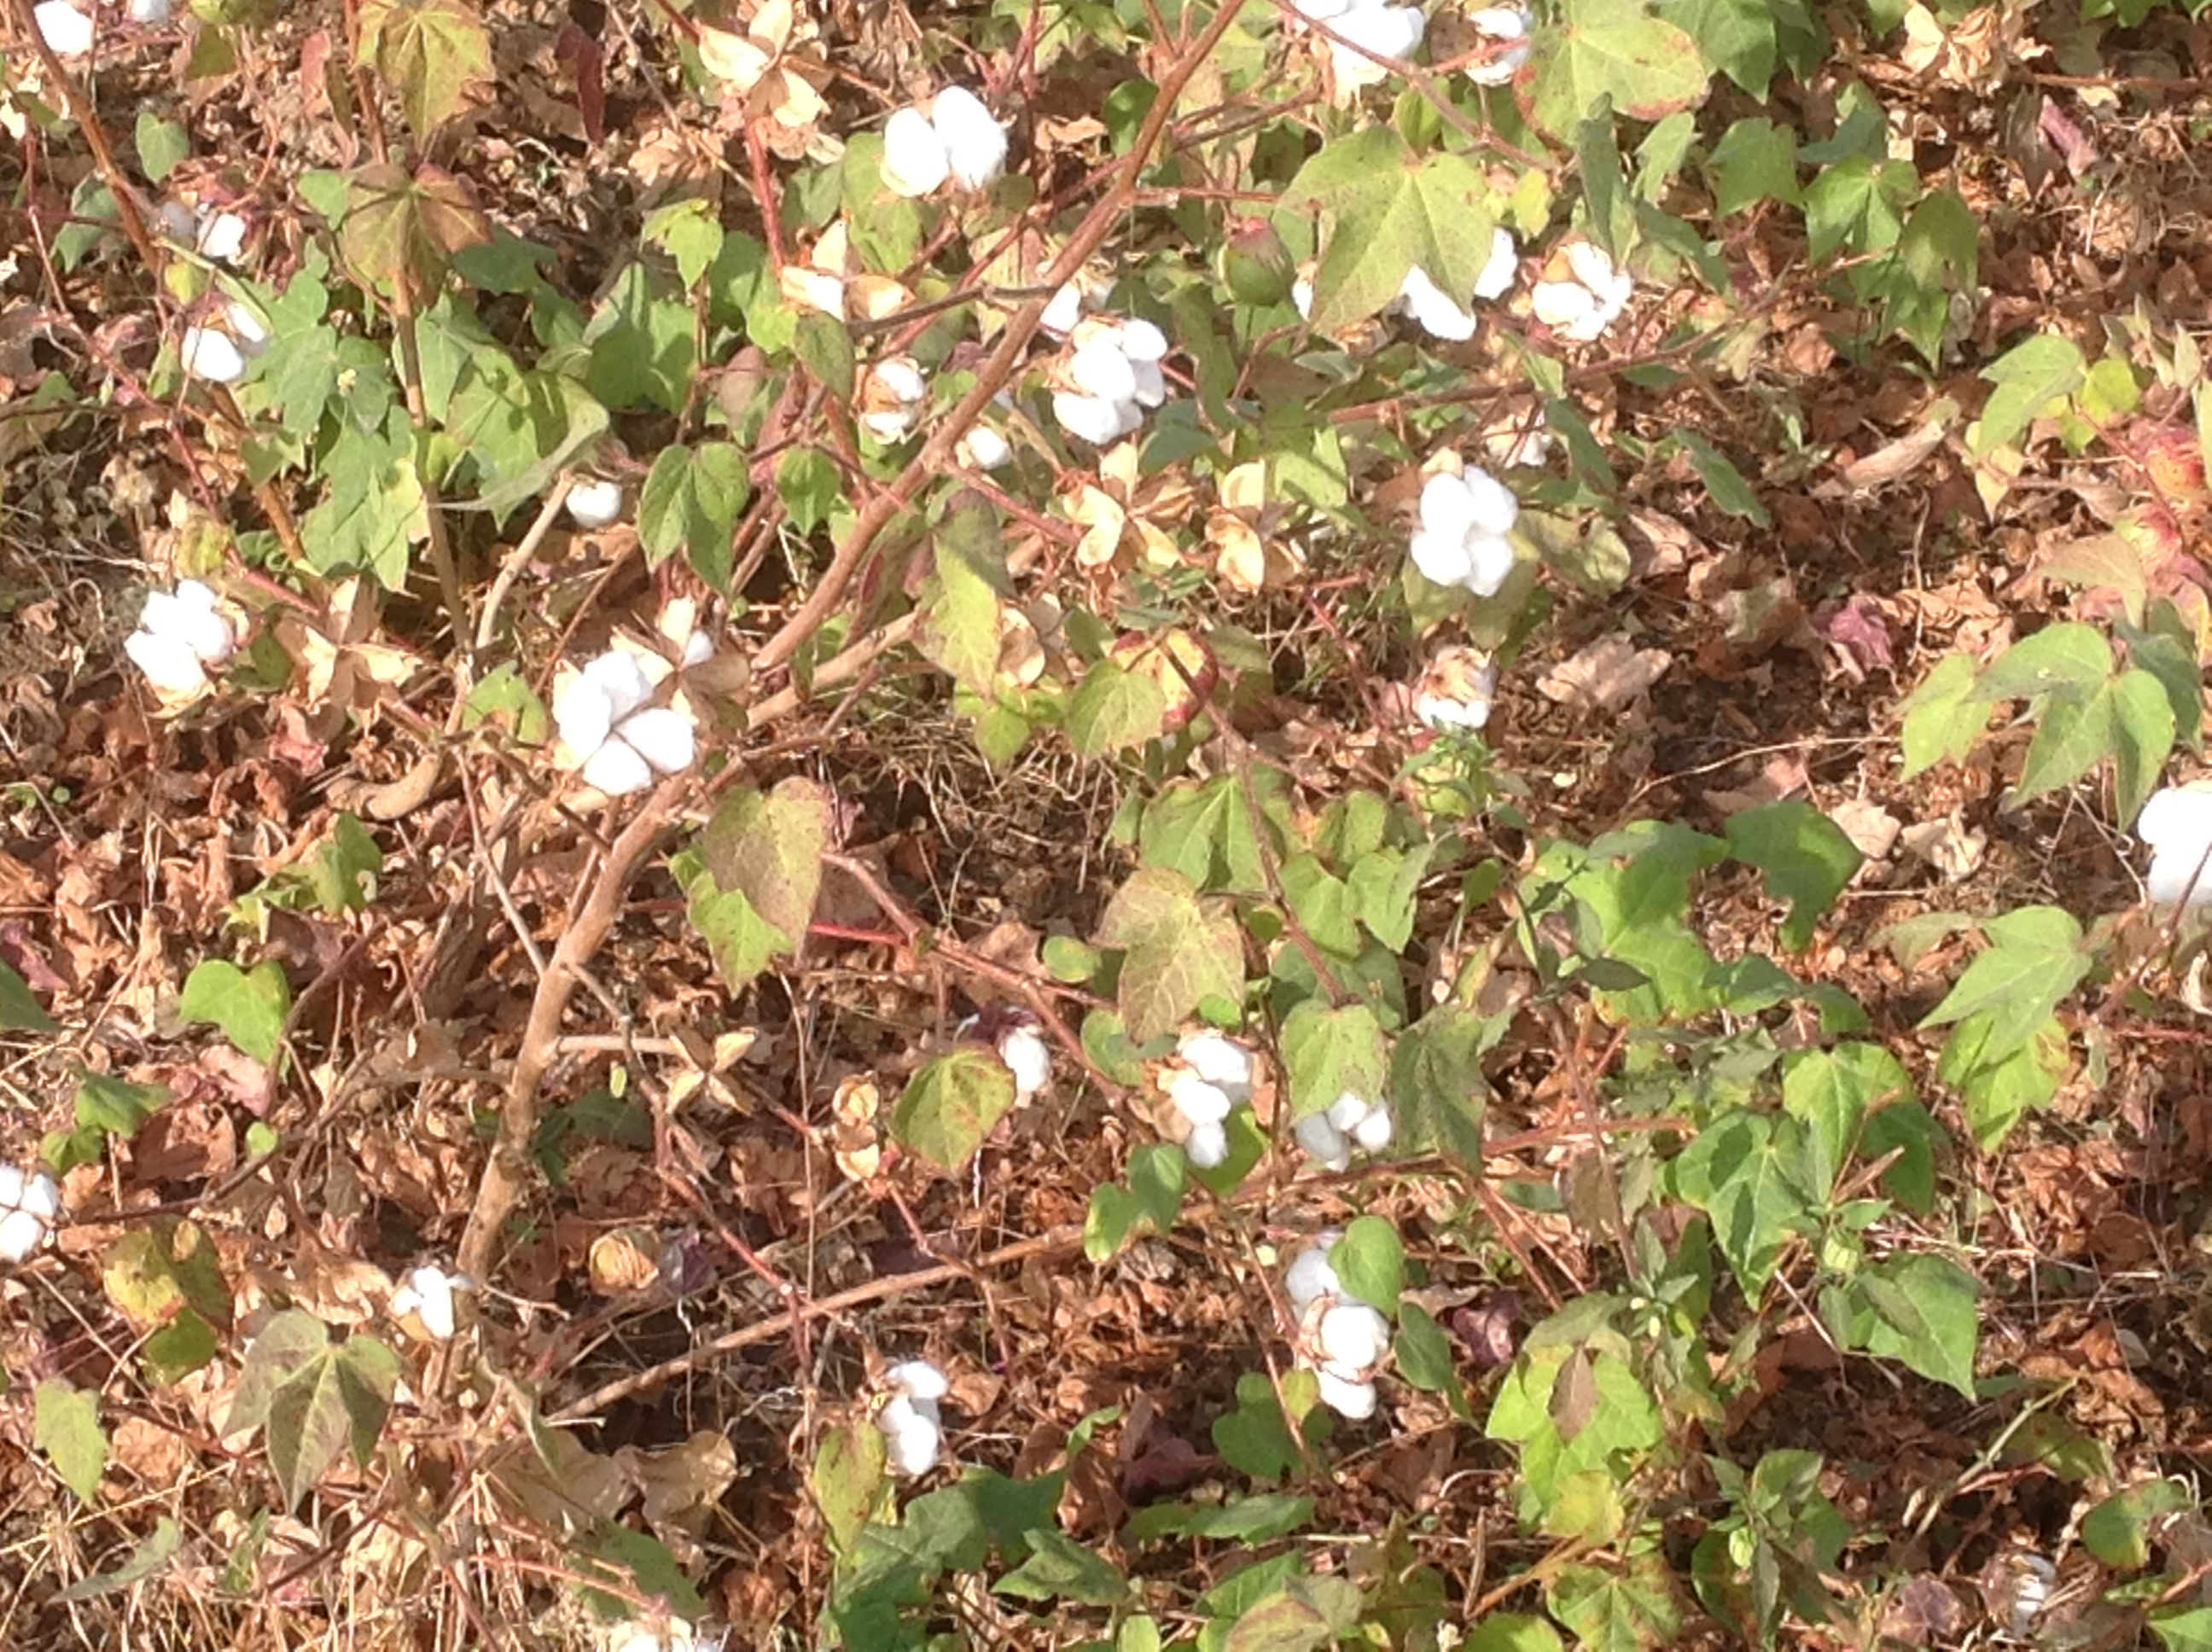cotton: (531, 613, 718, 795), (1270, 1220, 1407, 1426), (1317, 208, 1513, 337), (1129, 1012, 1249, 1196), (115, 583, 272, 713), (1405, 453, 1527, 609), (1044, 307, 1175, 453), (1261, 0, 1419, 109), (861, 95, 1018, 193), (147, 279, 281, 387), (1284, 1078, 1412, 1183), (857, 1359, 961, 1482), (1384, 635, 1509, 737), (952, 1020, 1077, 1119), (2137, 769, 2205, 951), (1541, 243, 1646, 347), (1440, 0, 1542, 90), (156, 198, 264, 267), (0, 1156, 61, 1267), (862, 361, 932, 453), (385, 1274, 472, 1347)
